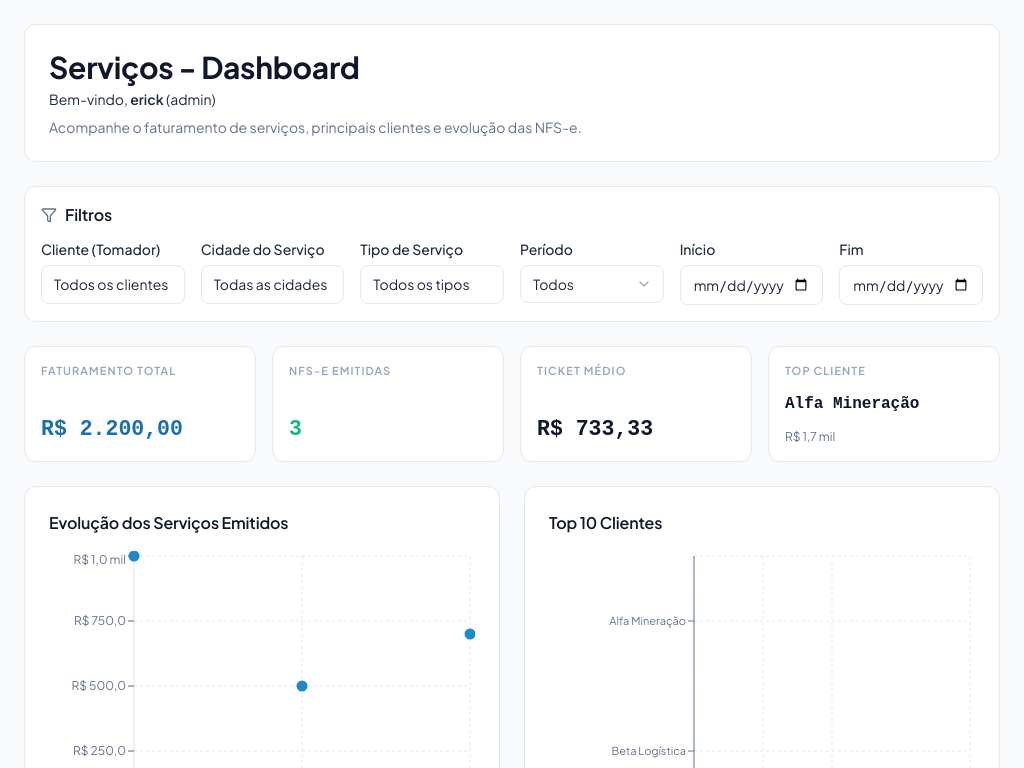
Test: KPIs de Serviços › o filtro Cidade do Serviço chega ao recorte e muda os KPIs
The width and height of the screenshot is (1024, 768).
What coordinates should you click on to do the following:
click the button "Todas as cidades"
I would click on:
 (273, 284)
Its box is [201,265,344,304].
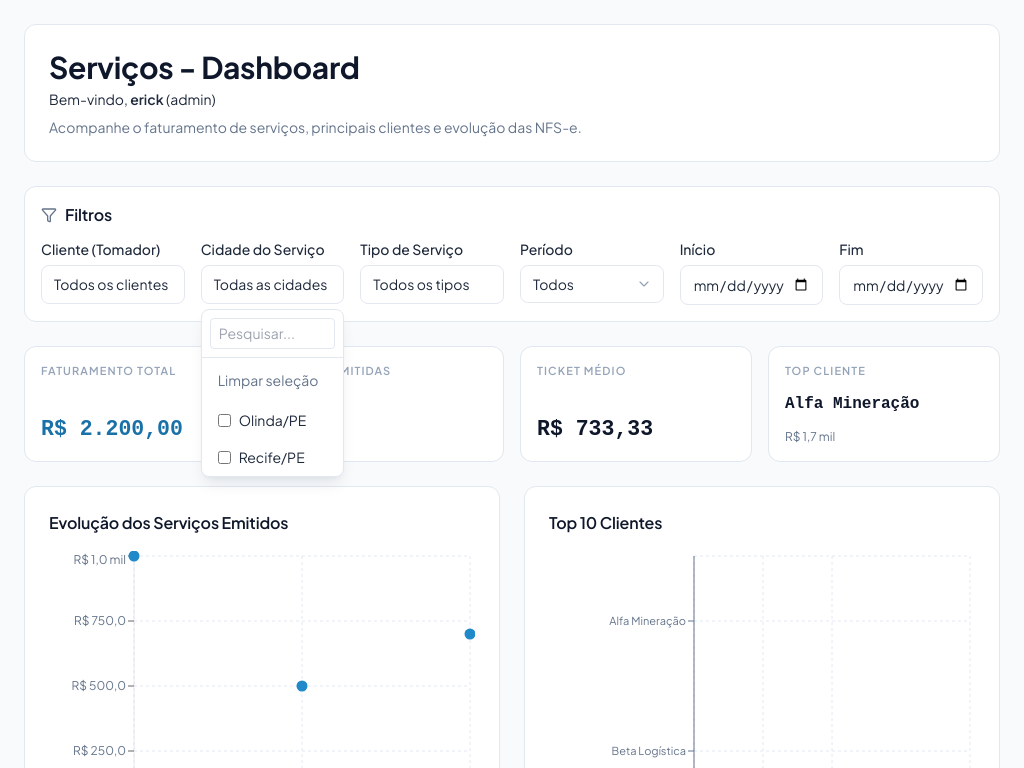
What coordinates should you click on to do the following:
click the checkbox labelled "Olinda/PE"
I would click on:
 (224, 420)
Its box is [218,414,231,427].
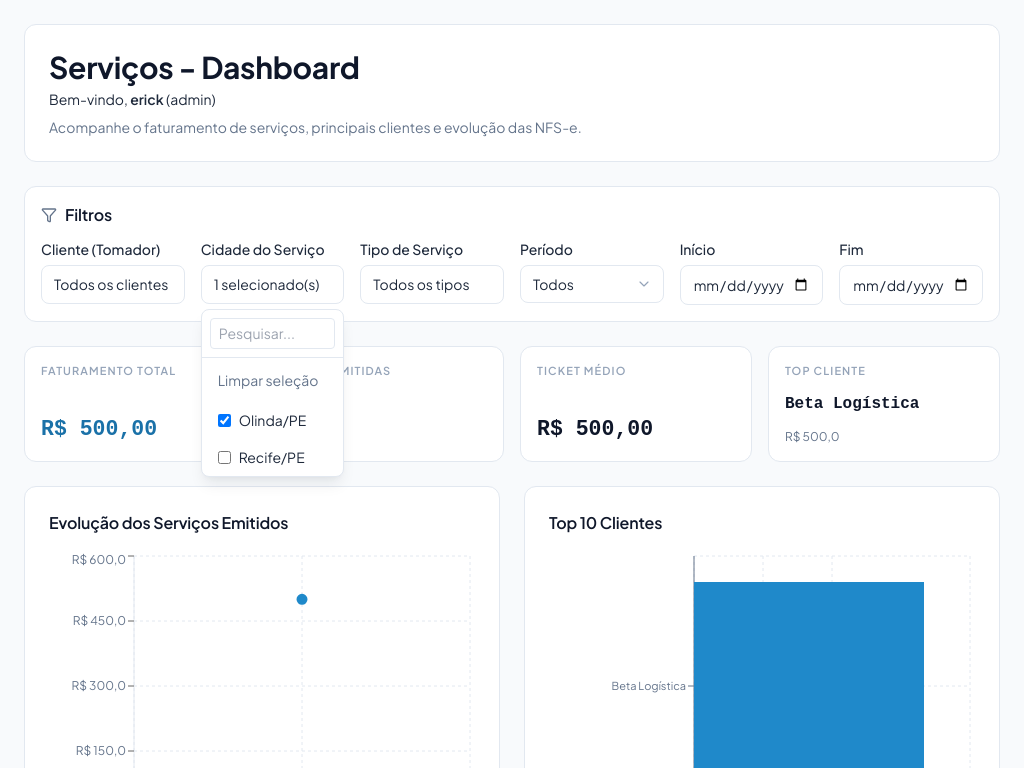
Check: the text "1" is shown, box [289,417,302,441]
Check: the text "R$ 500,00" below "Faturamento Total" is shown, box [41,417,157,441]
